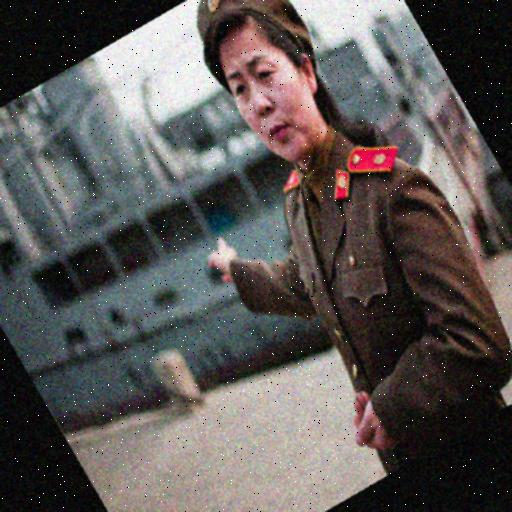north army: (186, 10, 512, 512)
